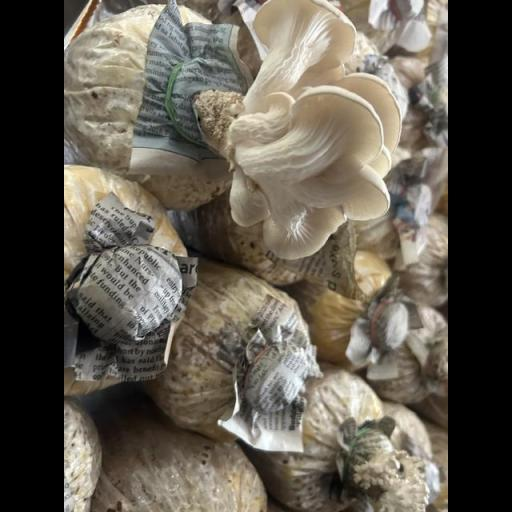White Oyster Mushroom: (230, 0, 410, 269)
